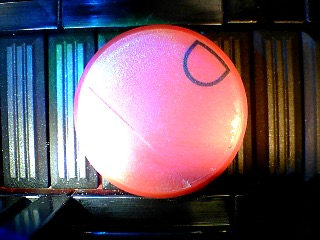MIPO1: (72, 24, 248, 199)
